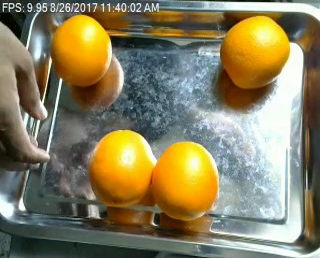Orange: (151, 140, 219, 220), (221, 15, 291, 88), (89, 129, 155, 205), (50, 13, 113, 85)
